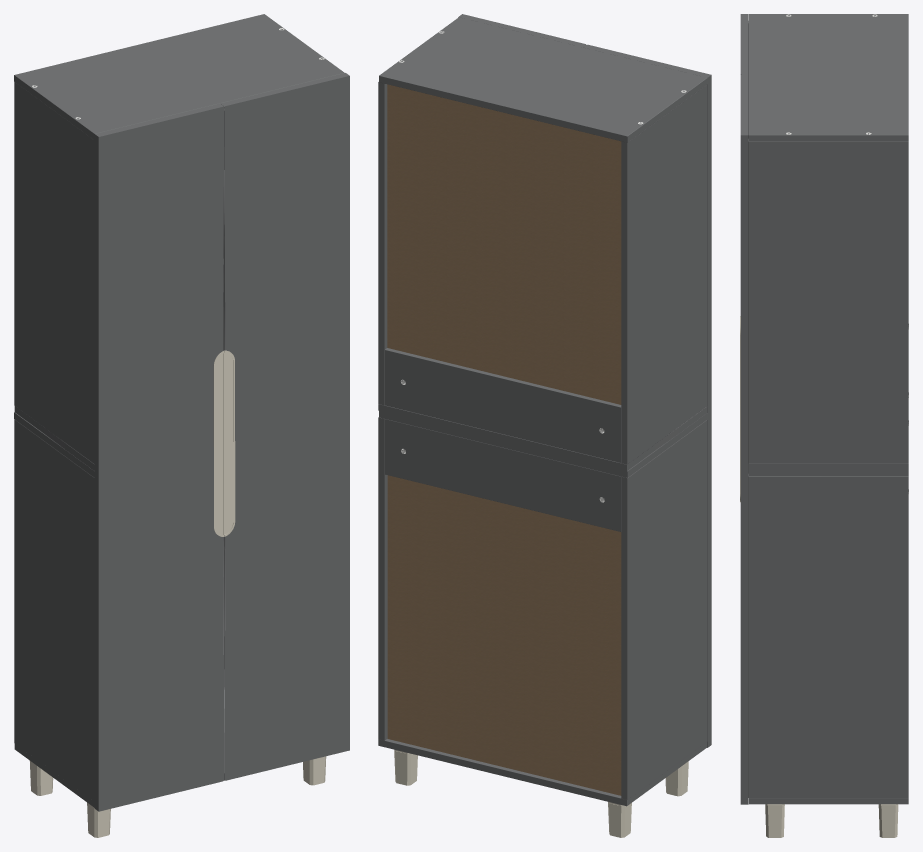
3 renders of one model, left to right at view 1: azimuth 30°, elevation 25°; view 2: azimuth 150°, elevation 25°; view 3: azimuth 270°, elevation 25°, orthographic.
Visible parts, largest first — view 1: group_0.003, group_0.467, group_0.115, group_0.001; view 2: group_0.003, group_0.369, group_0.002, group_0.467, group_0.115; view 3: group_0.003, group_0.467, group_0.115.
Boxes of the visible parts, bbox=[...] form: group_0.003: bbox=[14, 14, 349, 474]; group_0.467: bbox=[14, 412, 349, 811]; group_0.115: bbox=[30, 440, 326, 837]; group_0.001: bbox=[213, 350, 234, 446]; group_0.003: bbox=[378, 14, 711, 471]; group_0.369: bbox=[387, 475, 621, 795]; group_0.002: bbox=[387, 84, 621, 404]; group_0.467: bbox=[378, 410, 711, 806]; group_0.115: bbox=[394, 749, 688, 837]; group_0.003: bbox=[740, 14, 908, 469]; group_0.467: bbox=[740, 463, 908, 804]; group_0.115: bbox=[740, 414, 898, 837].
Bounding box in the file's own units: 0.7009 × 1.9 × 0.4114.
4 materials, 1 textured.
